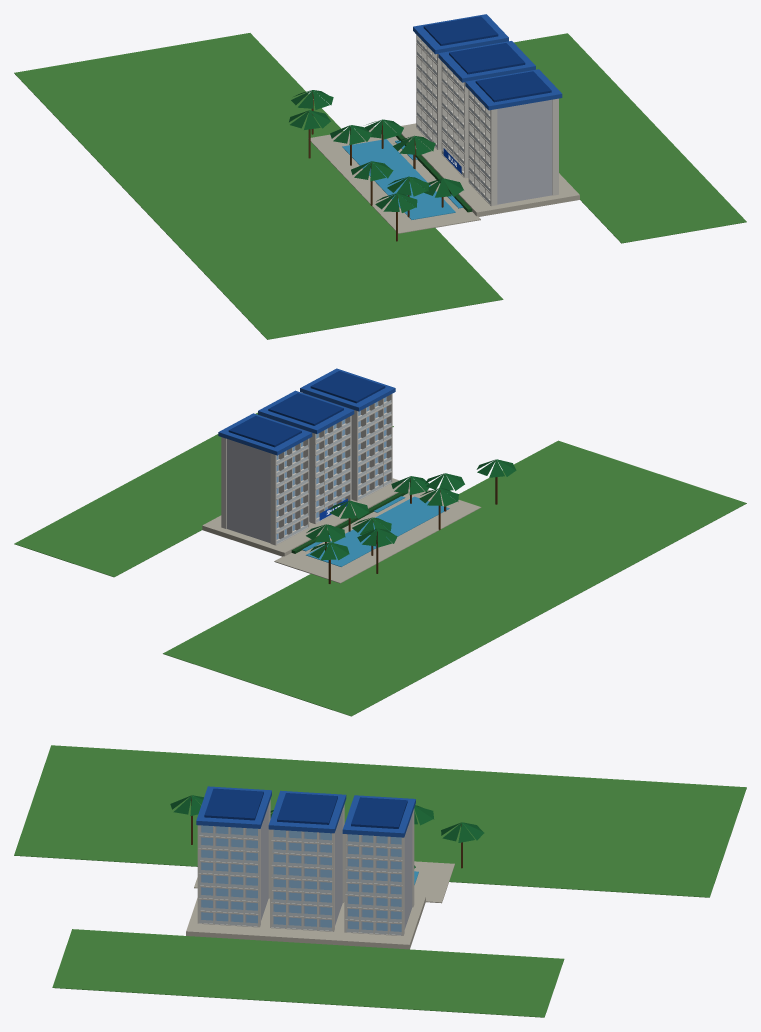
File: blue_residences.glb
3 renders of one model, top to bottom at view 1: azimuth 30°, elevation 25°; view 2: azimuth 150°, elevation 25°; view 3: azimuth 270°, elevation 25°, orthographic. The views are drawn at different scales.
Parts seen in each view (by area): view 1: blue_residences_lod0; view 2: blue_residences_lod0; view 3: blue_residences_lod0.
Part boxes in pixels (<box>): blue_residences_lod0: <box>14,14,746,339</box>; blue_residences_lod0: <box>14,368,746,716</box>; blue_residences_lod0: <box>14,745,746,1017</box>.
Size of what is drawn, in the model's own units: 157 by 29.85 by 178.
Materials: 3 (1 with a texture image).
